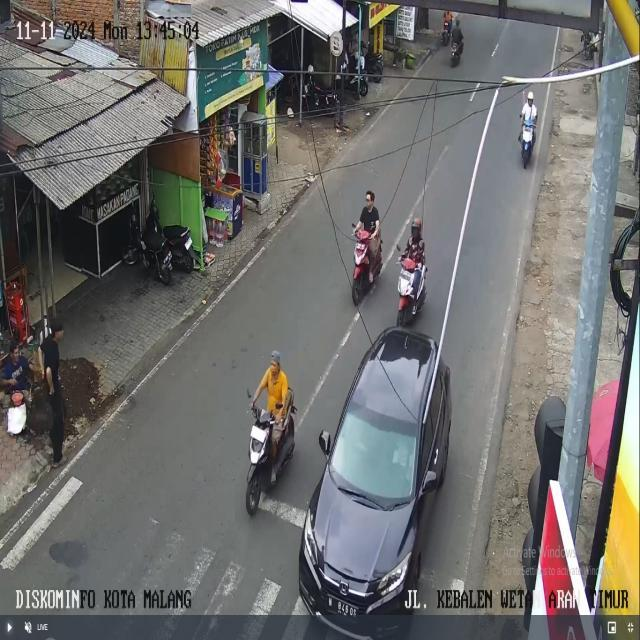Helmet: (11, 391, 23, 406), (411, 218, 421, 236), (527, 91, 533, 99)
Number Plate: (328, 597, 357, 616), (185, 238, 192, 249)
Rearview Mirror: (422, 470, 436, 492), (318, 431, 330, 456), (396, 244, 402, 252), (275, 403, 282, 409), (246, 388, 250, 398), (351, 222, 355, 227)
